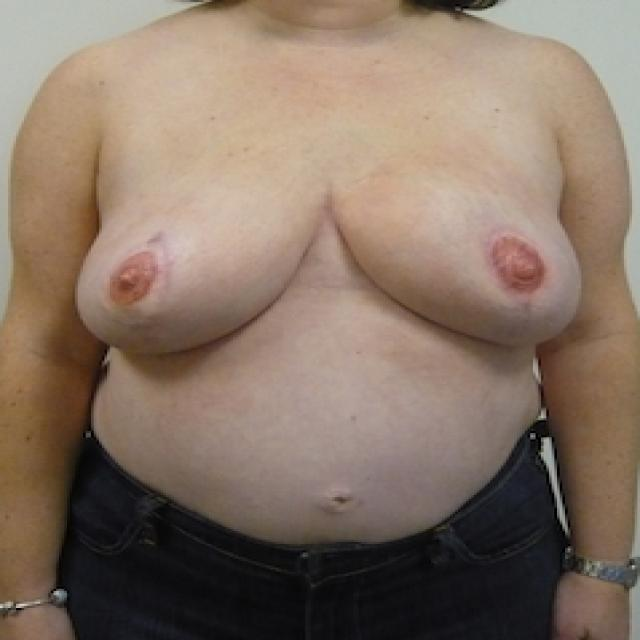Seno herido: (331, 134, 593, 370), (66, 135, 325, 370)
